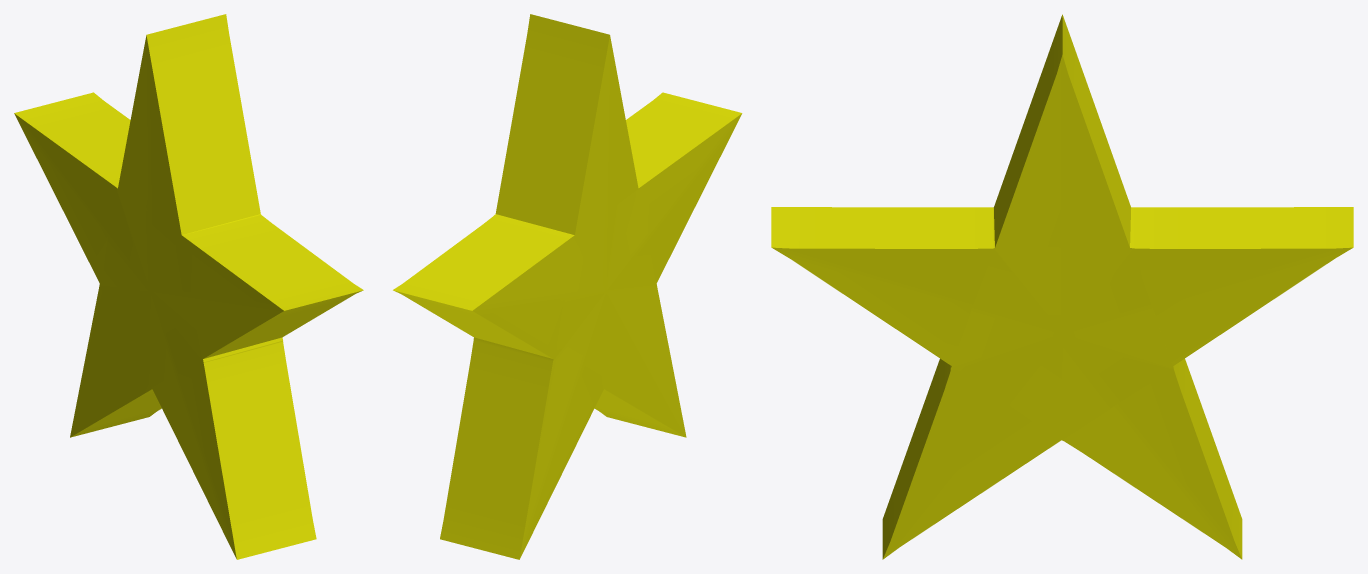
The model's file is star2.fbx.
3 renders of one model, left to right at view 1: azimuth 30°, elevation 25°; view 2: azimuth 150°, elevation 25°; view 3: azimuth 270°, elevation 25°, orthographic. The views are drawn at different scales.
Visible parts, largest first — view 1: pCylinder4; view 2: pCylinder4; view 3: pCylinder4.
Boxes of the visible parts, x1,y1,x2,y2 form: pCylinder4: [14, 14, 363, 559]; pCylinder4: [393, 14, 742, 559]; pCylinder4: [771, 14, 1353, 559].
Bounding box in the file's own units: 0.3258 × 1.68 × 1.76.
